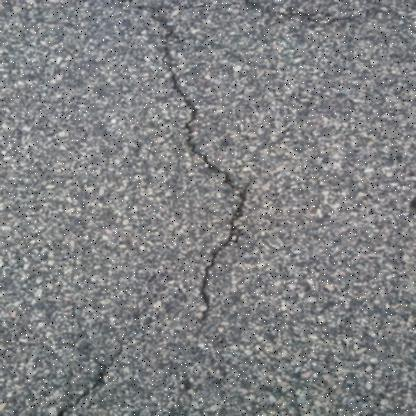Cracks: (151, 1, 263, 334), (64, 0, 362, 24), (40, 348, 125, 416)
